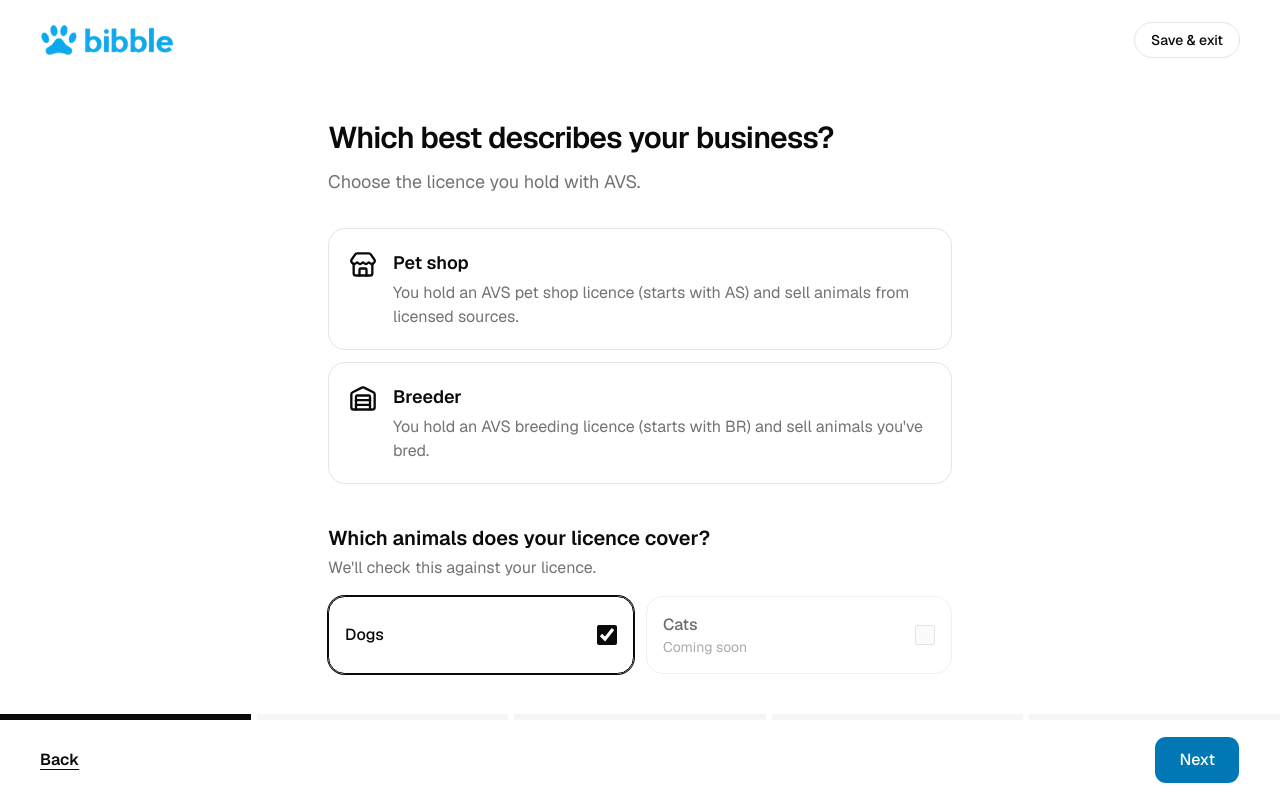
Type step › shows errors from the action
Click the button "Next": {"x": 1197, "y": 760} [1154,736,1240,784]
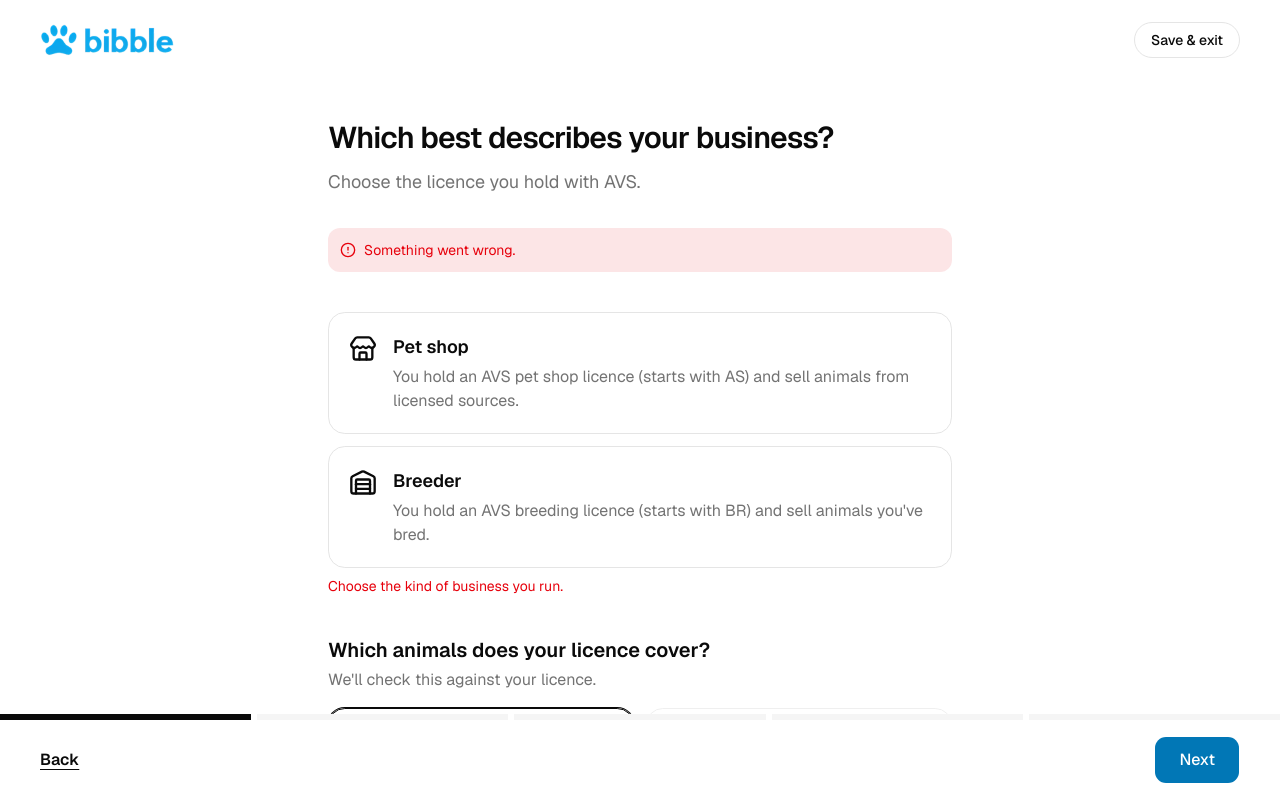
Now the text "Choose the kind of business you run." is shown, box [328,577,563,595]
Now the message reads "Something went wrong.", box [364,241,515,259]
